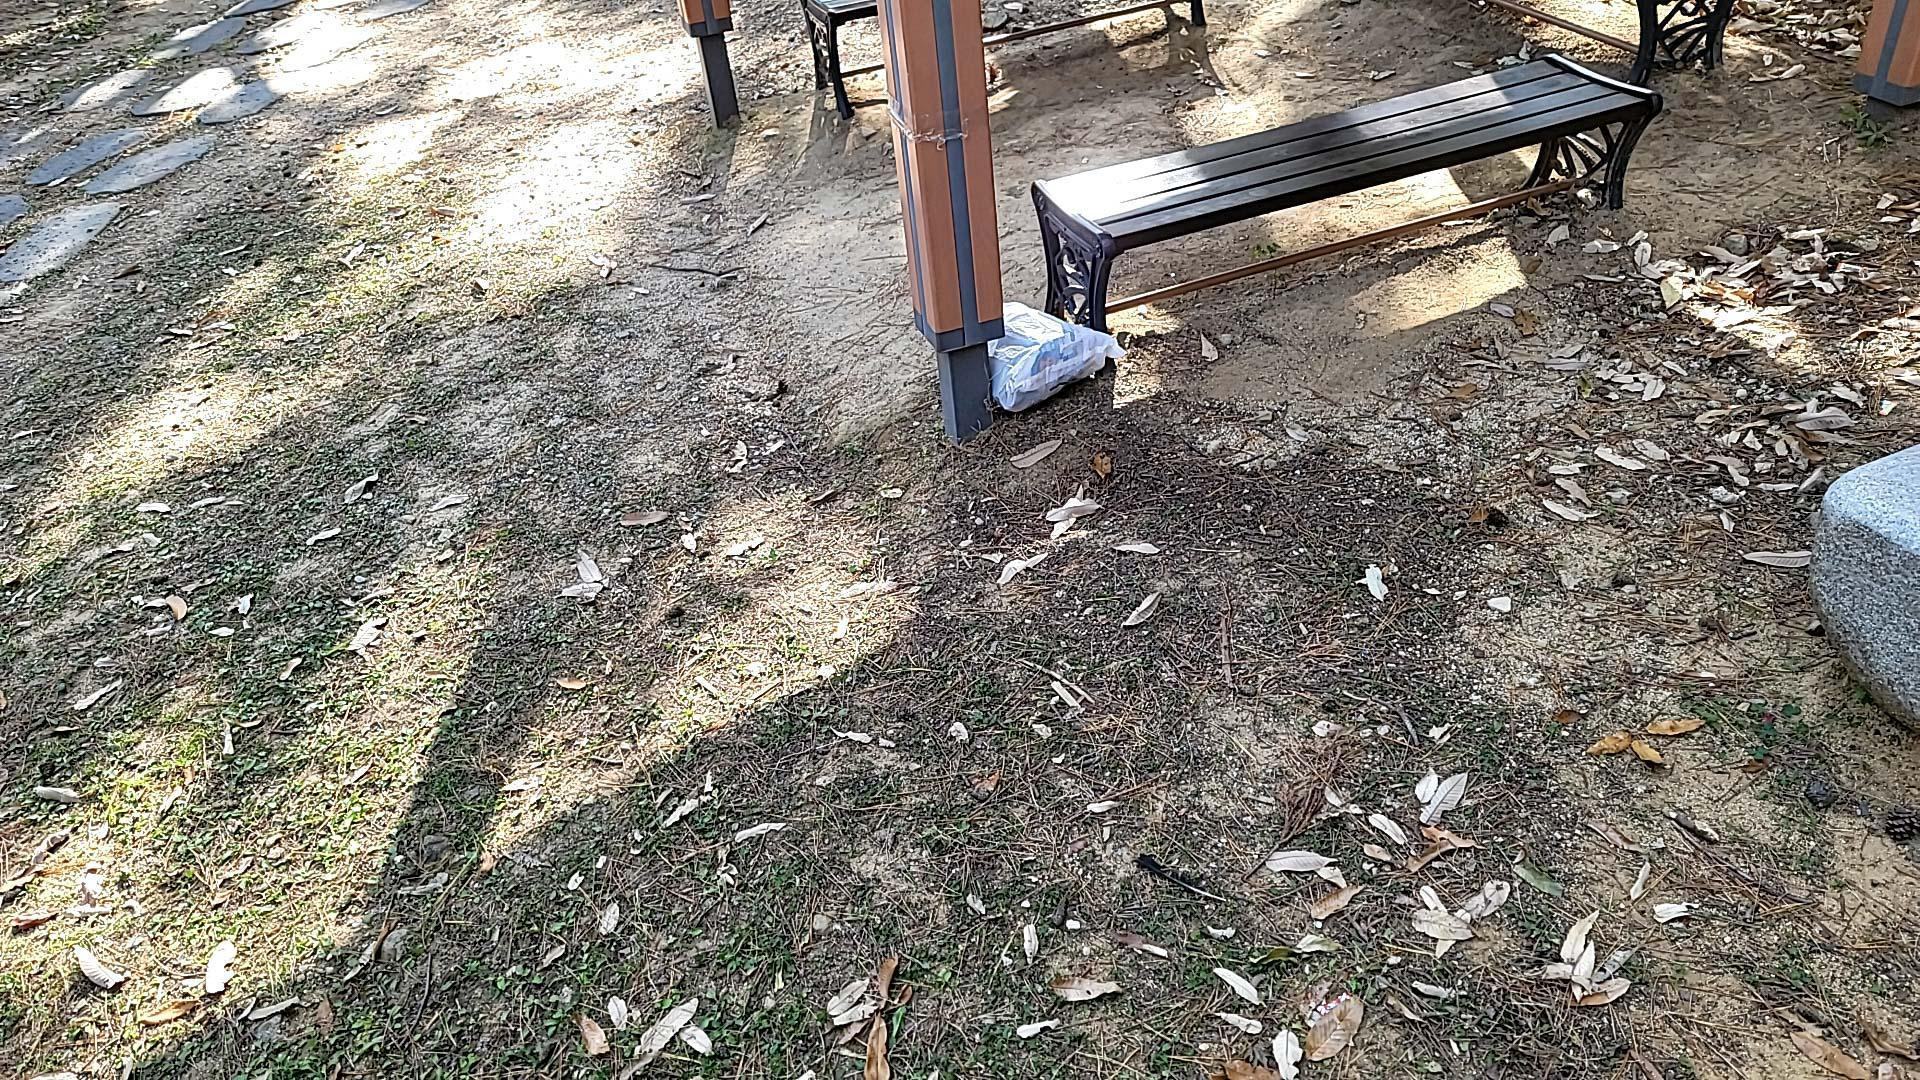white_bag: (969, 290, 1134, 407)
